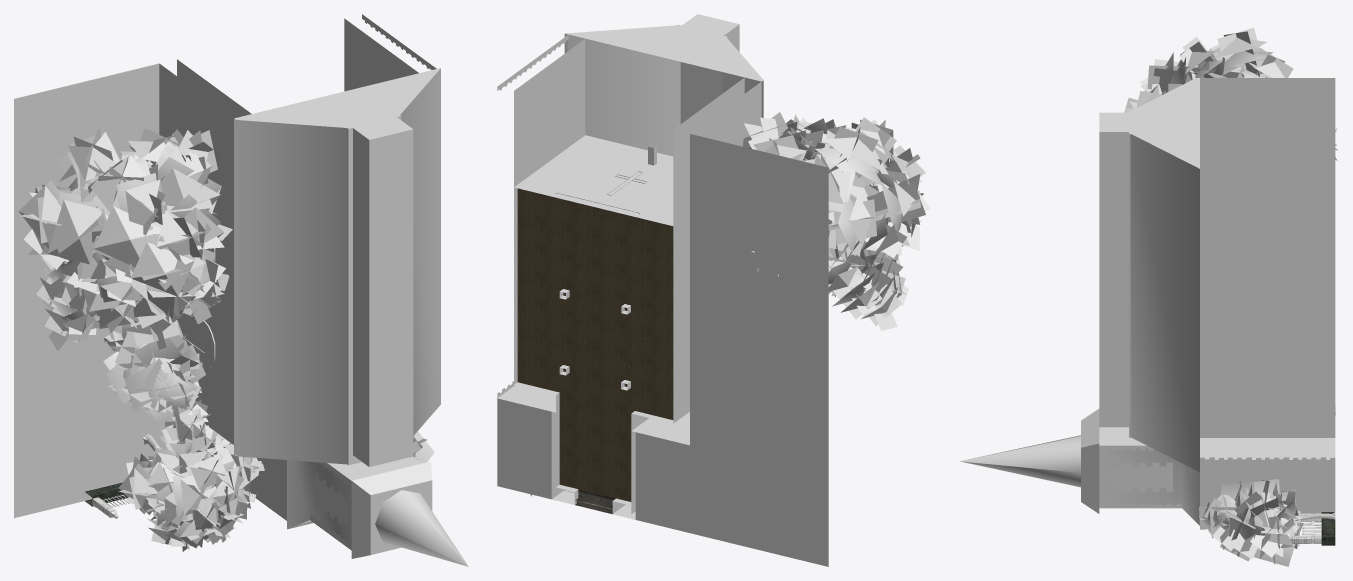
Rendered from UnionCity_ChurchGeoMesh.fbx.
3 views of the same model, side by side, from view 1: azimuth 30°, elevation 25°; view 2: azimuth 150°, elevation 25°; view 3: azimuth 270°, elevation 25° (orthographic). The views are drawn at different scales.
Parts seen in each view (by area): view 1: prop_static_66780, prop_static_67145, worldspawn_1_5713, prop_static_67143, worldspawn_1_4291, prop_static_67146, worldspawn_1_4305, worldspawn_1_41900, prop_static_66779; view 2: worldspawn_1_5713, worldspawn_1_4382, prop_static_67145, prop_static_66780, worldspawn_1_4298, worldspawn_1_4291, worldspawn_1_4305, worldspawn_1_4326, worldspawn_1_4438, worldspawn_1_5706, worldspawn_1_4319, worldspawn_1_4312 (+2 smaller); view 3: prop_static_66780, worldspawn_1_4305, worldspawn_1_4291, prop_static_67144, prop_static_67145, worldspawn_1_41907, worldspawn_1_4312.
Boxes of the visible parts, <box> form: prop_static_66780: <box>205,14,468,566</box>; prop_static_67145: <box>18,127,232,350</box>; worldspawn_1_5713: <box>14,63,159,518</box>; prop_static_67143: <box>118,399,264,551</box>; worldspawn_1_4291: <box>159,59,251,444</box>; prop_static_67146: <box>103,320,205,424</box>; worldspawn_1_4305: <box>344,18,418,91</box>; worldspawn_1_41900: <box>250,458,286,514</box>; prop_static_66779: <box>177,248,215,368</box>; worldspawn_1_5713: <box>690,134,828,566</box>; worldspawn_1_4382: <box>517,188,673,419</box>; prop_static_67145: <box>743,112,930,330</box>; prop_static_66780: <box>497,14,763,520</box>; worldspawn_1_4298: <box>514,135,673,225</box>; worldspawn_1_4291: <box>673,78,761,423</box>; worldspawn_1_4305: <box>514,39,585,384</box>; worldspawn_1_4326: <box>559,392,634,501</box>; worldspawn_1_4438: <box>497,398,551,499</box>; worldspawn_1_5706: <box>635,432,689,532</box>; worldspawn_1_4319: <box>631,411,689,445</box>; worldspawn_1_4312: <box>497,382,559,412</box>; prop_static_66780: <box>960,78,1335,525</box>; worldspawn_1_4305: <box>1200,159,1335,437</box>; worldspawn_1_4291: <box>1200,78,1335,159</box>; prop_static_67144: <box>1199,479,1335,566</box>; prop_static_67145: <box>1124,27,1338,160</box>; worldspawn_1_41907: <box>1200,462,1335,513</box>; worldspawn_1_4312: <box>1200,438,1335,459</box>.
Bounding box in the file's own units: 1503 × 1559 × 1323.
